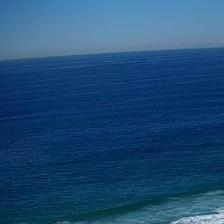surfer: (120, 198, 123, 202), (88, 206, 92, 209), (73, 207, 75, 210), (70, 211, 72, 214), (153, 196, 155, 198)
